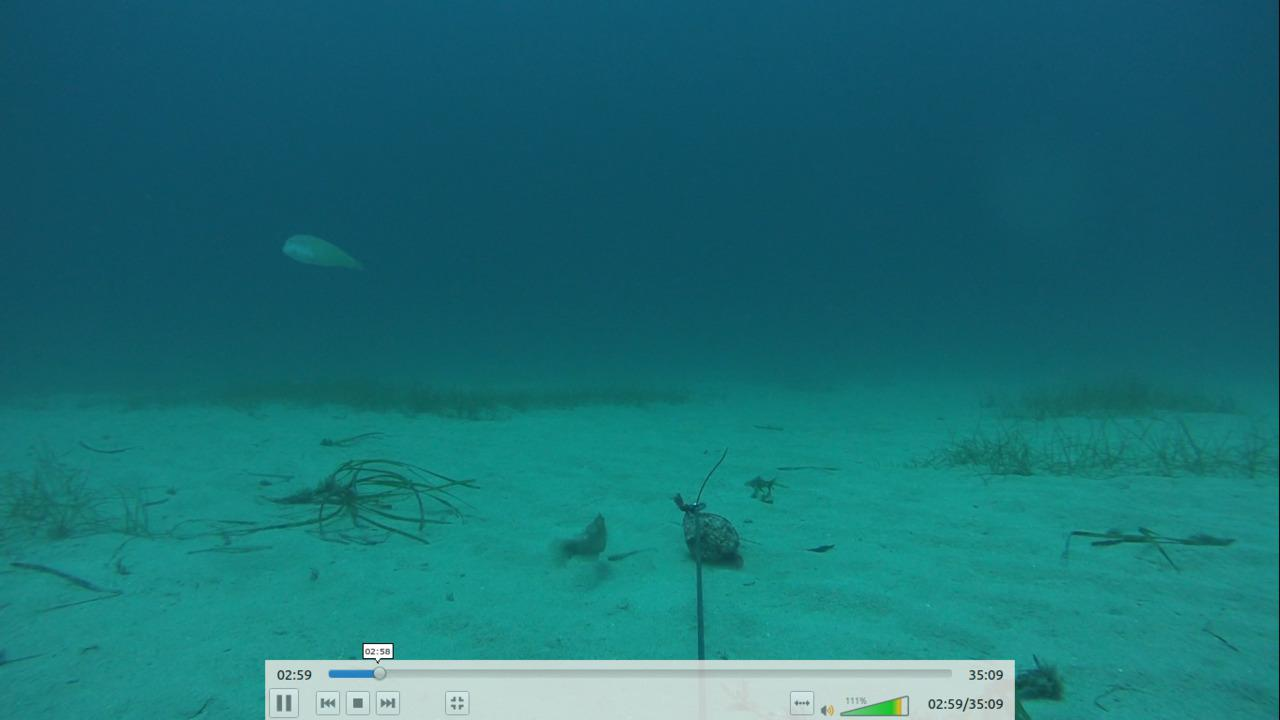raor: (277, 225, 364, 276), (545, 510, 603, 567)
